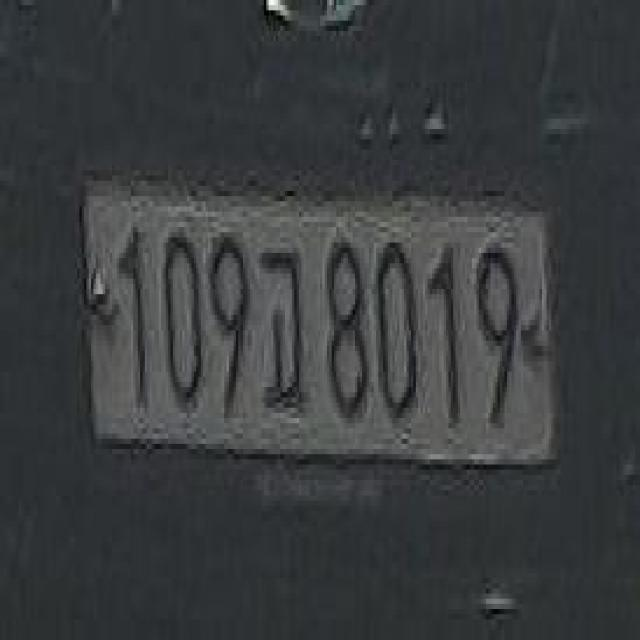illegal_plate: (85, 165, 558, 495)
